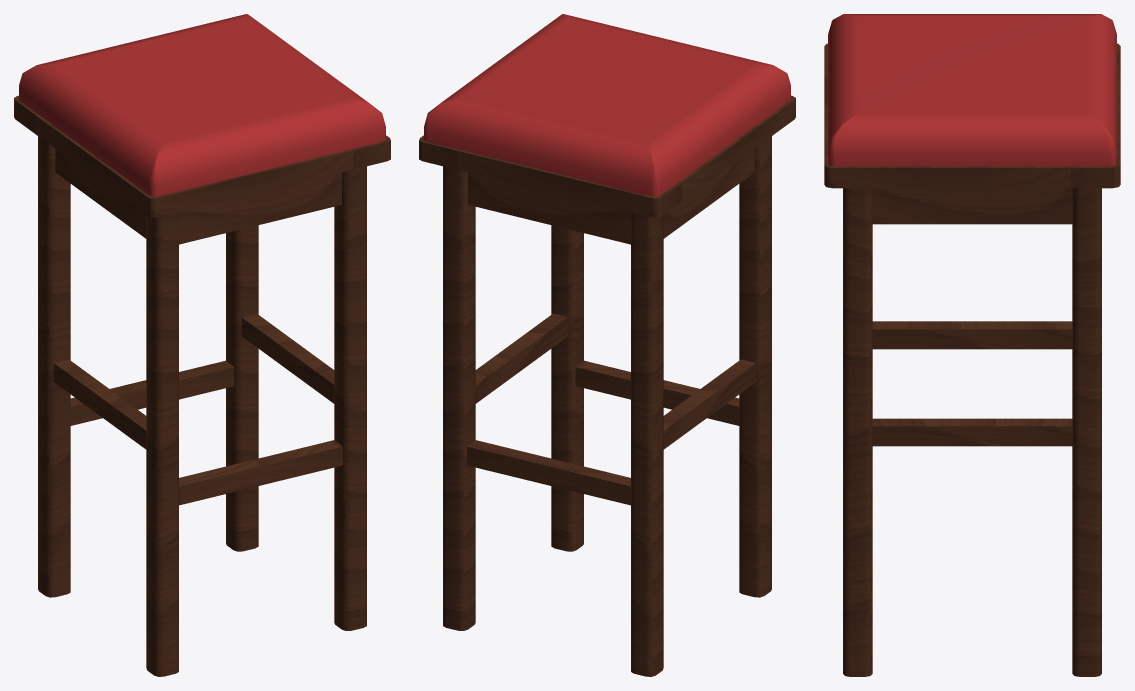
The model's file is bar_stool.glb.
3 views of the same model, side by side, from view 1: azimuth 30°, elevation 25°; view 2: azimuth 150°, elevation 25°; view 3: azimuth 270°, elevation 25° (orthographic). The views are drawn at different scales.
Visible parts, largest first — view 1: bar_stool; view 2: bar_stool; view 3: bar_stool.
Part boxes in pixels (left/top/right/bottom): bar_stool: left=14, top=14, right=390, bottom=676; bar_stool: left=419, top=14, right=795, bottom=676; bar_stool: left=824, top=14, right=1120, bottom=676.
Size of the model in its own units: 0.4 by 0.83 by 0.4.
2 materials, 1 textured.
